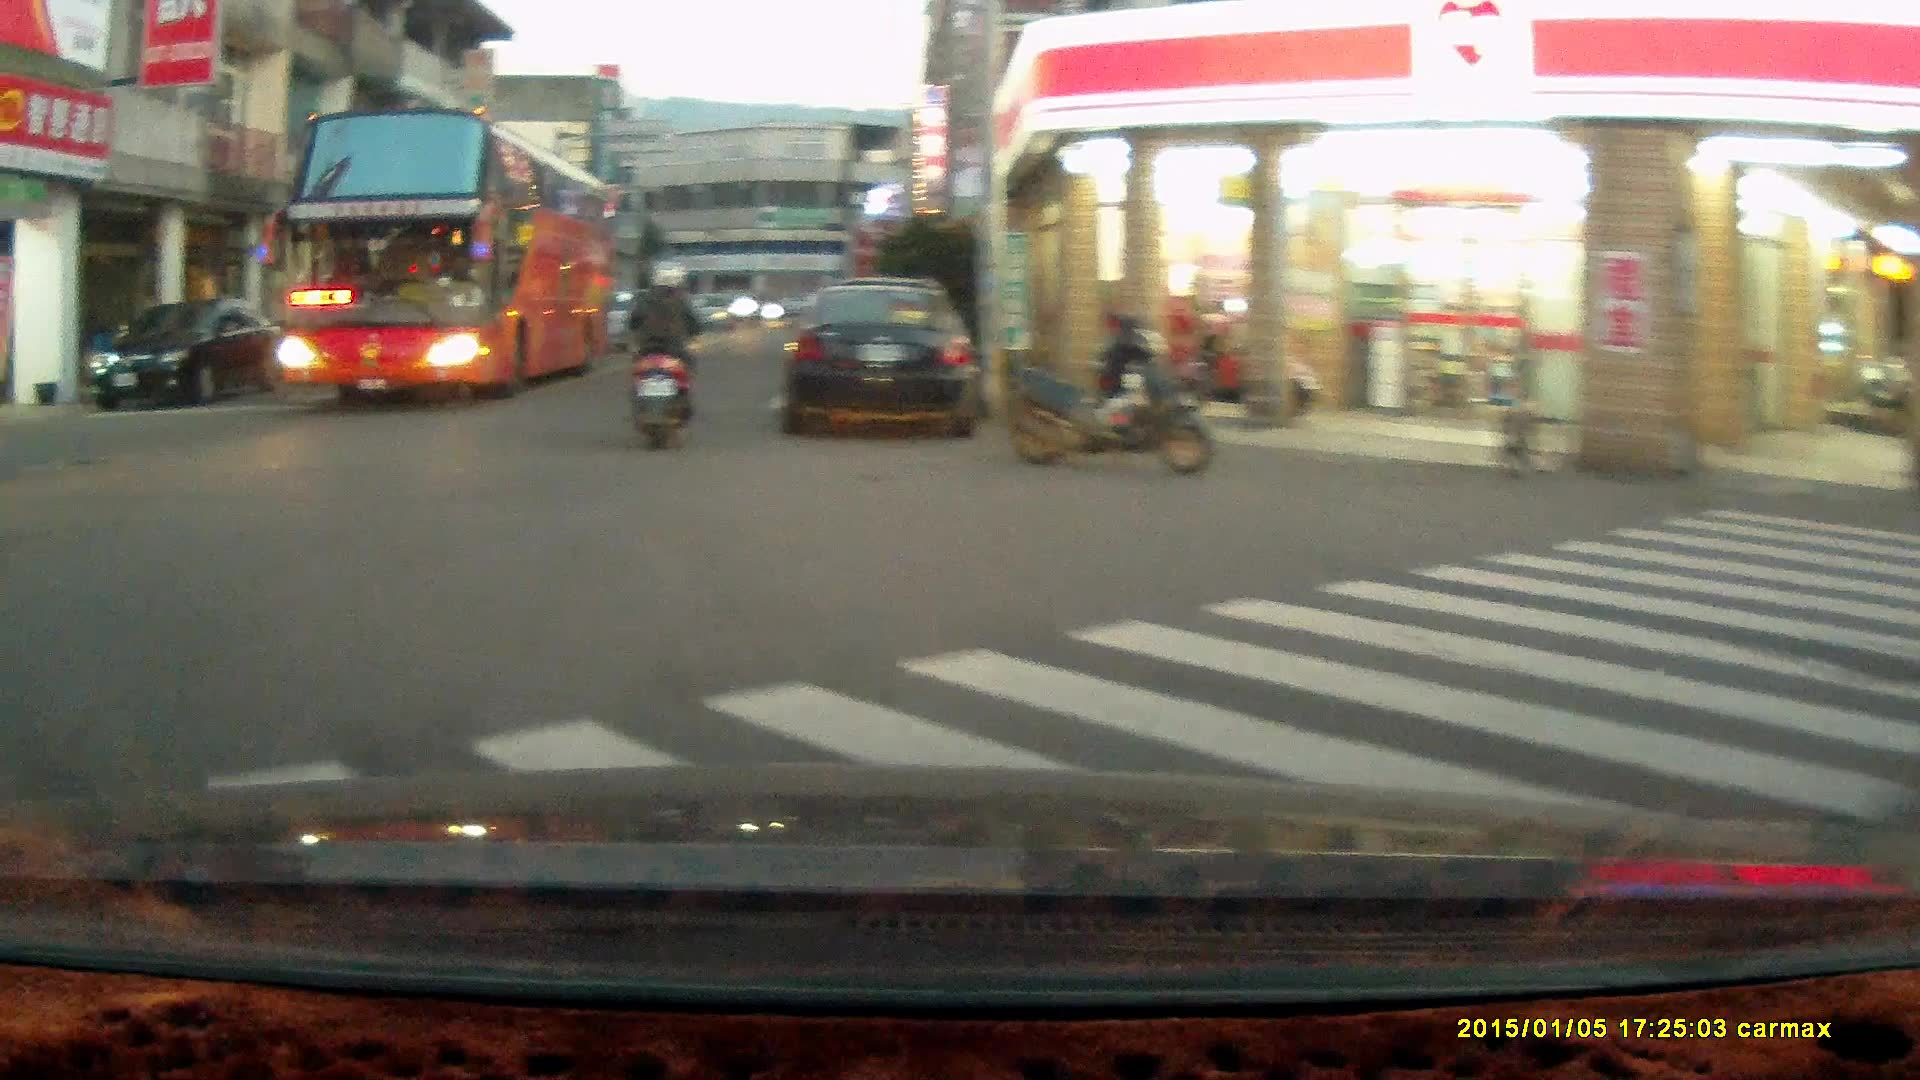rider: (613, 262, 700, 457)
vehicle: (272, 109, 617, 410), (777, 275, 982, 433), (85, 298, 287, 410)
